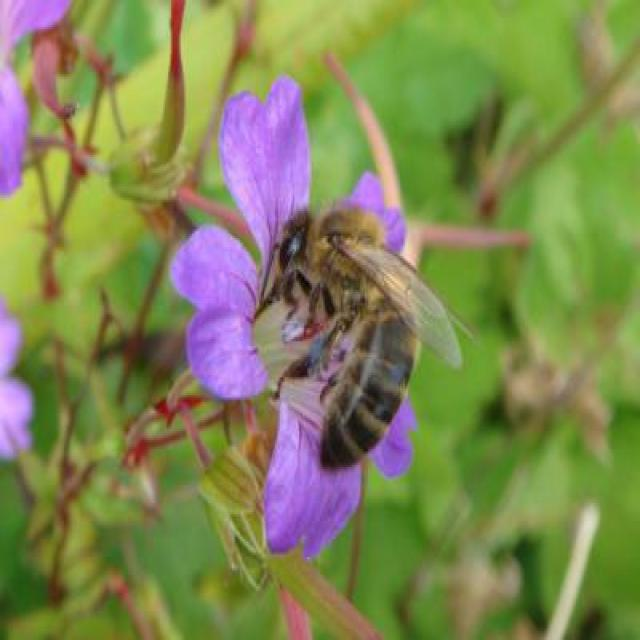antennae: (256, 240, 284, 305)
body: (277, 210, 419, 472)
insect: (244, 202, 480, 474)
legs: (270, 301, 362, 401), (305, 286, 343, 344), (278, 273, 312, 325)
mouthpart: (244, 268, 288, 325)
wings: (328, 233, 461, 370), (404, 273, 478, 345)
